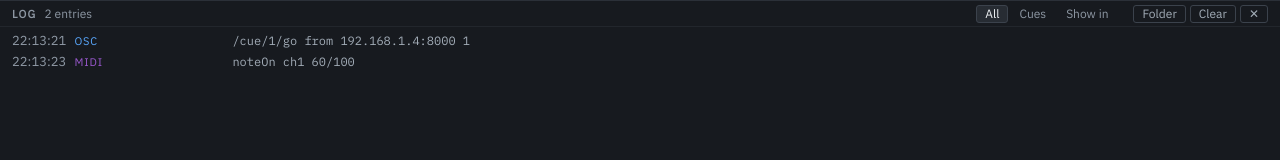
it: LogPanel › offers the filter, and filters either half
Expected: the element with class "log-filters" is shown, [976,4,1118,22]
Click the button with class "log-filter" showing "Cues".
click(1033, 14)  # box [1010,4,1055,22]
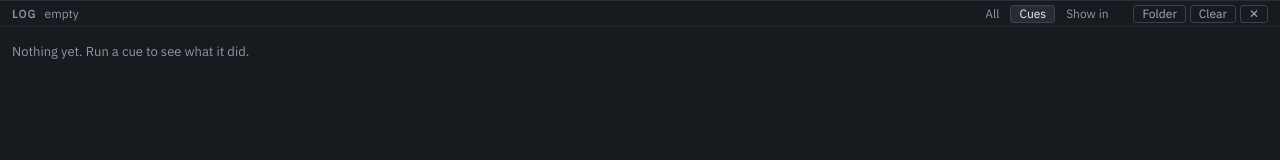
Result: no elements with class "log-event" are shown
